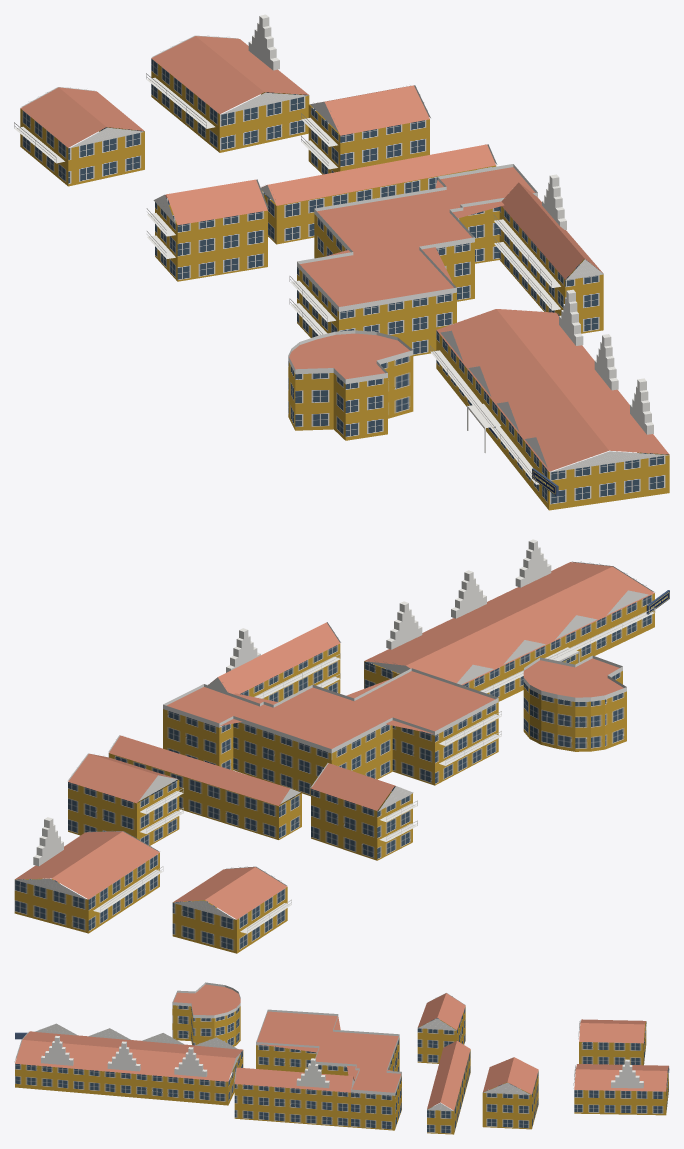
The model's file is amsterdam.glb.
3 renders of one model, top to bottom at view 1: azimuth 30°, elevation 25°; view 2: azimuth 150°, elevation 25°; view 3: azimuth 270°, elevation 25°, orthographic. The views are drawn at different scales.
Visible parts, largest first — view 1: amsterdam_lod0; view 2: amsterdam_lod0; view 3: amsterdam_lod0.
Part boxes in pixels (box(x1,y1,x2,y2)): amsterdam_lod0: box(14, 14, 669, 510); amsterdam_lod0: box(14, 539, 669, 953); amsterdam_lod0: box(14, 982, 669, 1134).
Size of what is drawn, in the model's own units: 56.38 by 15.05 by 135.
Materials: 5 (2 with a texture image).
